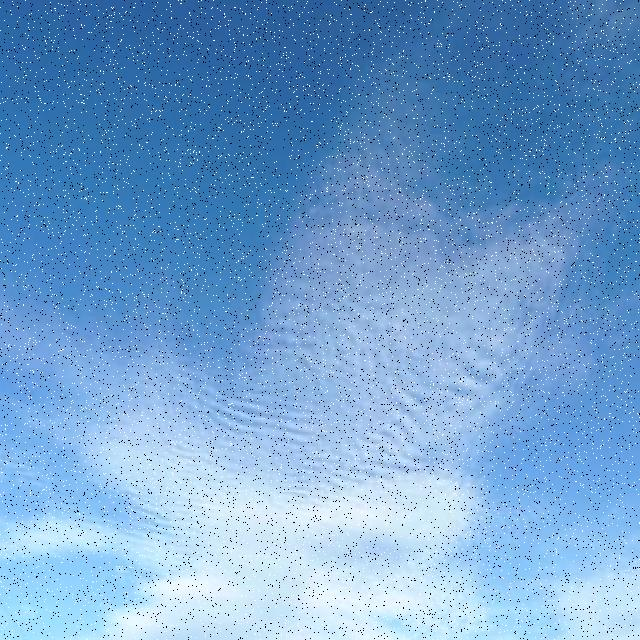Cc: (92, 109, 607, 614)
